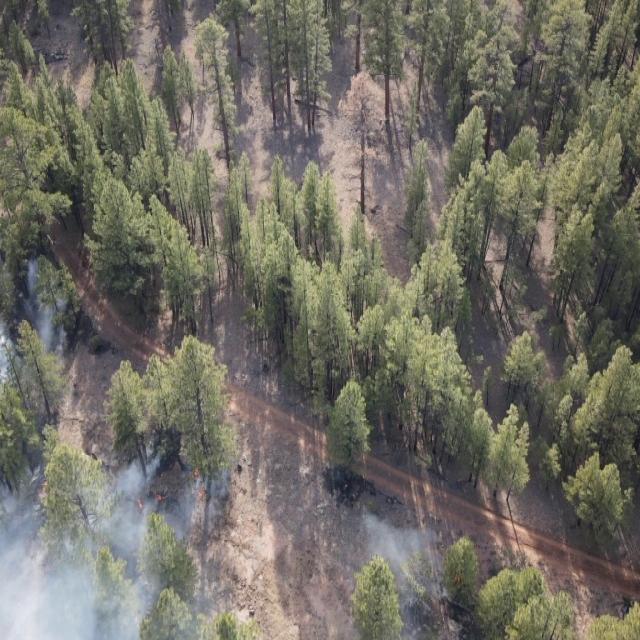fire: (189, 468, 207, 502), (135, 494, 147, 514), (154, 489, 164, 508), (35, 480, 51, 490)
smoke: (0, 440, 232, 640), (358, 510, 466, 640), (0, 250, 73, 390)
